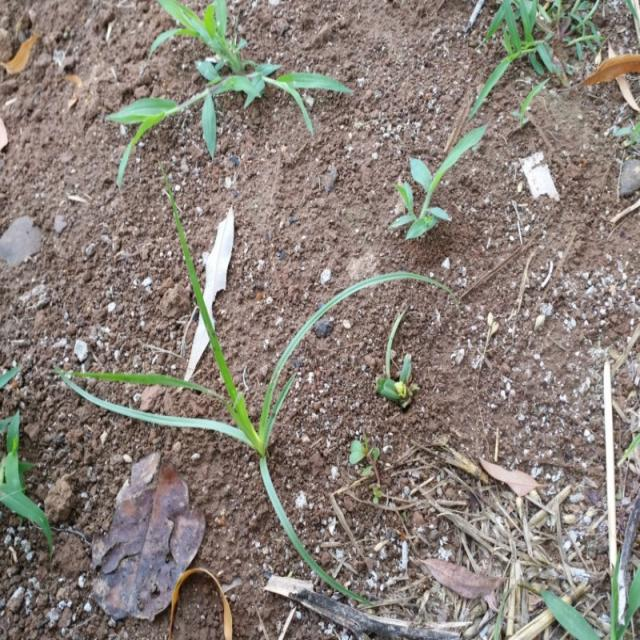sedge: (79, 200, 399, 570)
